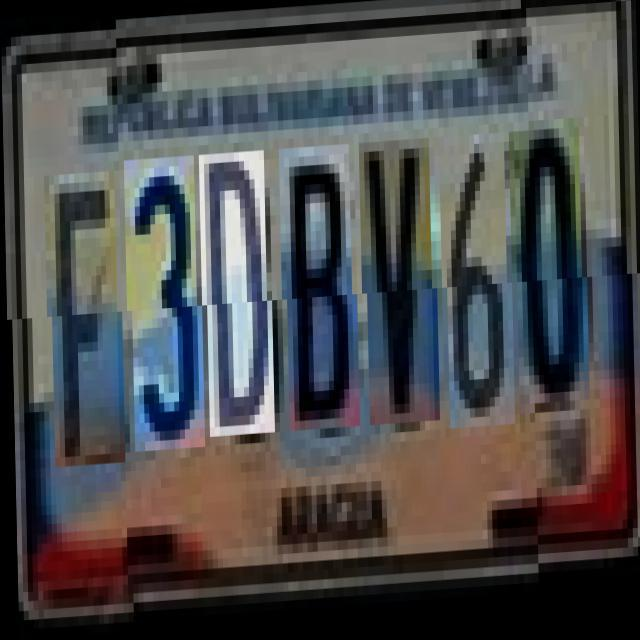3: (128, 158, 203, 454)
6: (443, 140, 513, 436)
B: (283, 148, 358, 436)
D: (203, 154, 273, 440)
F: (48, 163, 123, 459)
O: (513, 136, 588, 422)
V: (363, 144, 438, 431)
